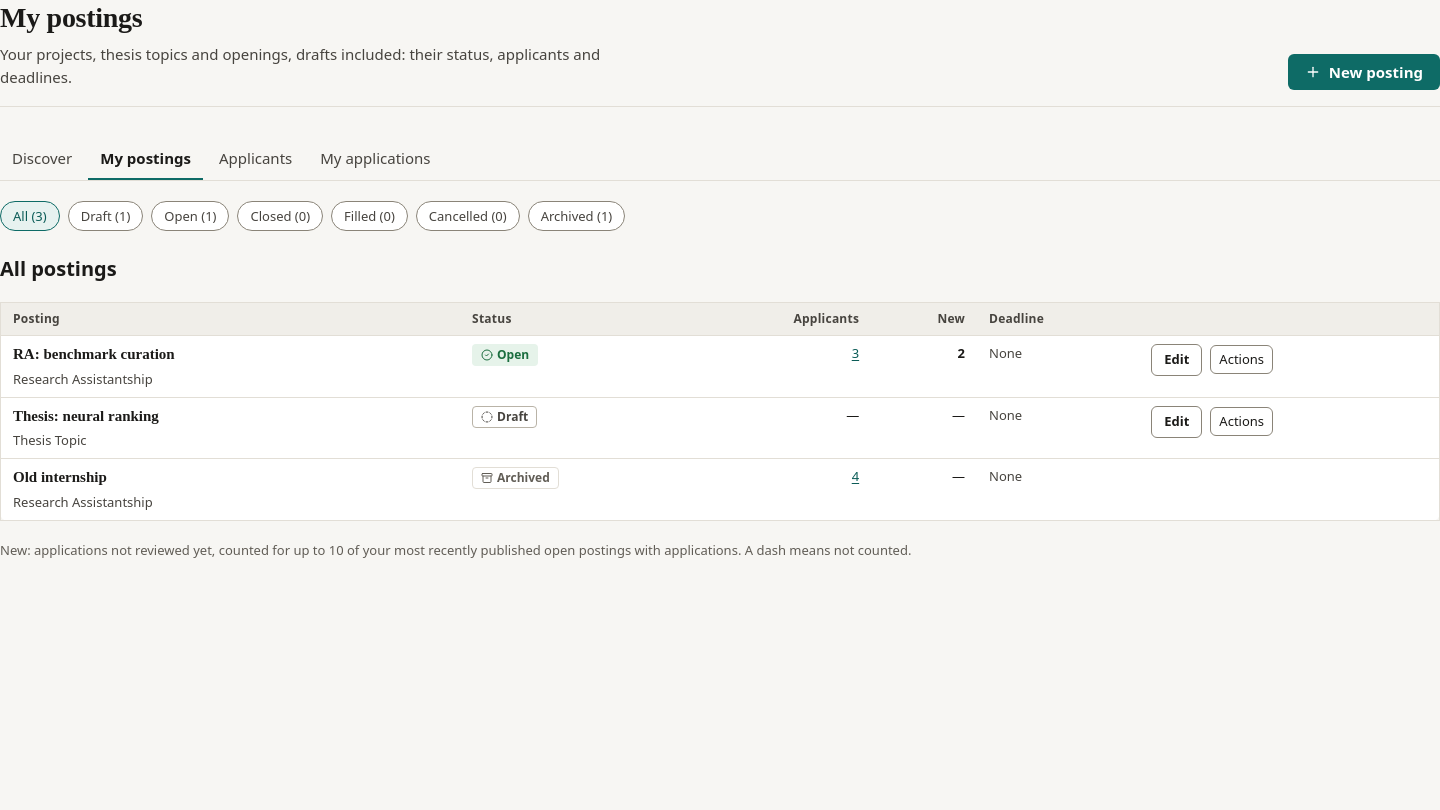
Test: My postings › asks before Cancel posting: Cancel sends nothing, Confirm sends one request
Click the button with aria-label "Actions for RA: benchmark curation" at (1242, 360), box [1210,345,1273,374]
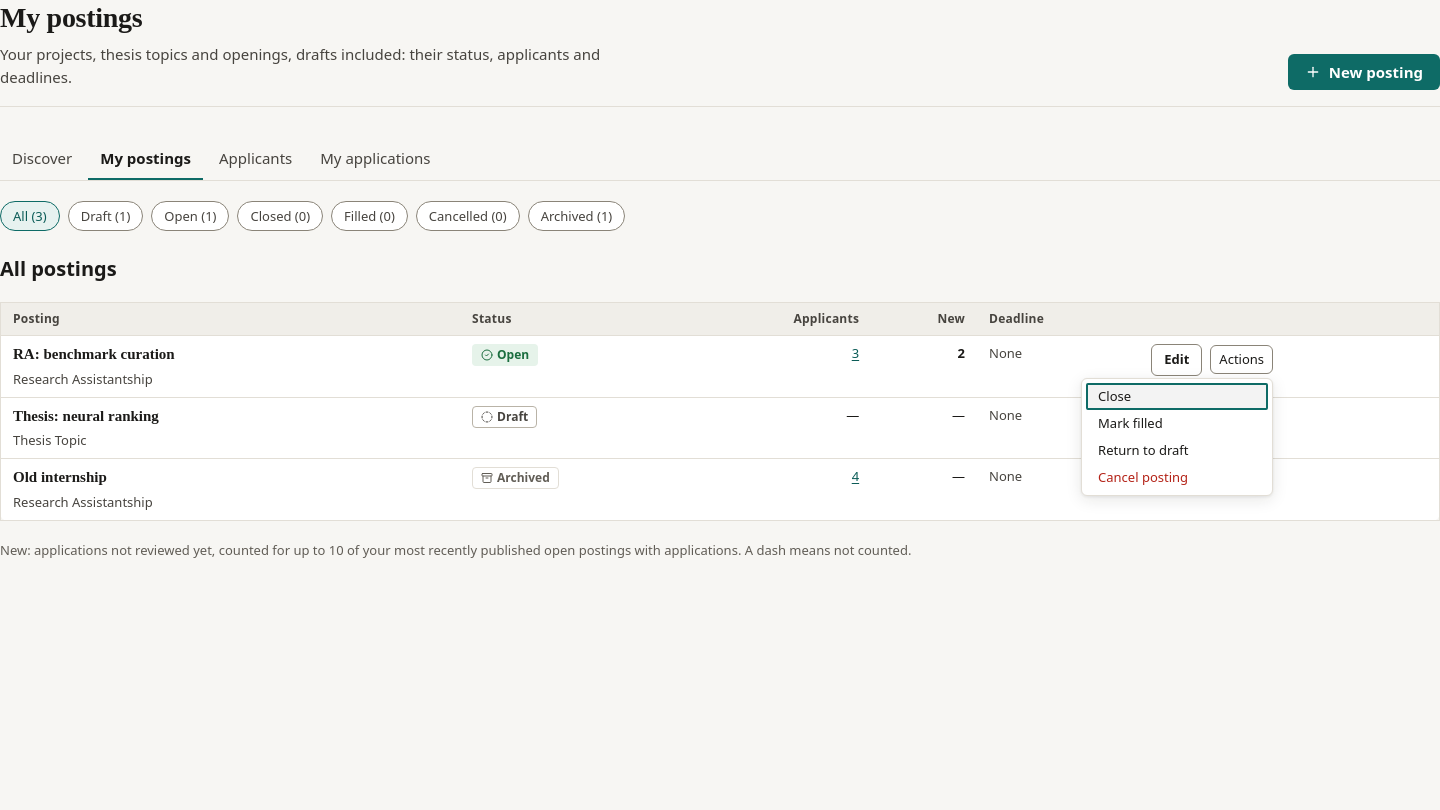
Click the menu item "Cancel posting" at (1177, 477), box [1086,464,1268,490]
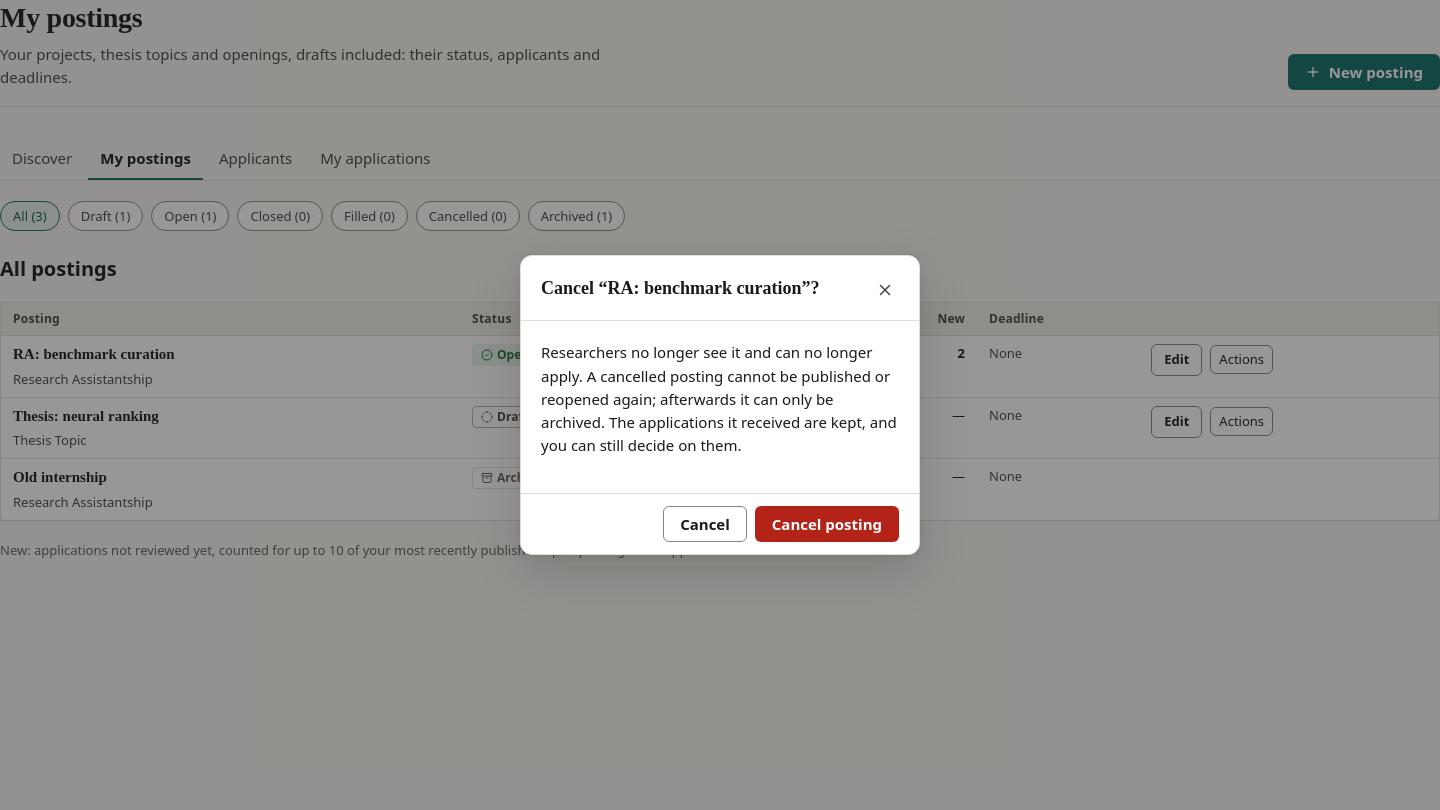
Expected: the dialog "Cancel “RA: benchmark curation”?" shows "cannot be published or reopened again", [541,366,890,432]
Expected: the dialog "Cancel “RA: benchmark curation”?" shows "The applications it received are kept", [541,412,897,455]
Click the button "Cancel" at (705, 524), box [663,506,747,542]
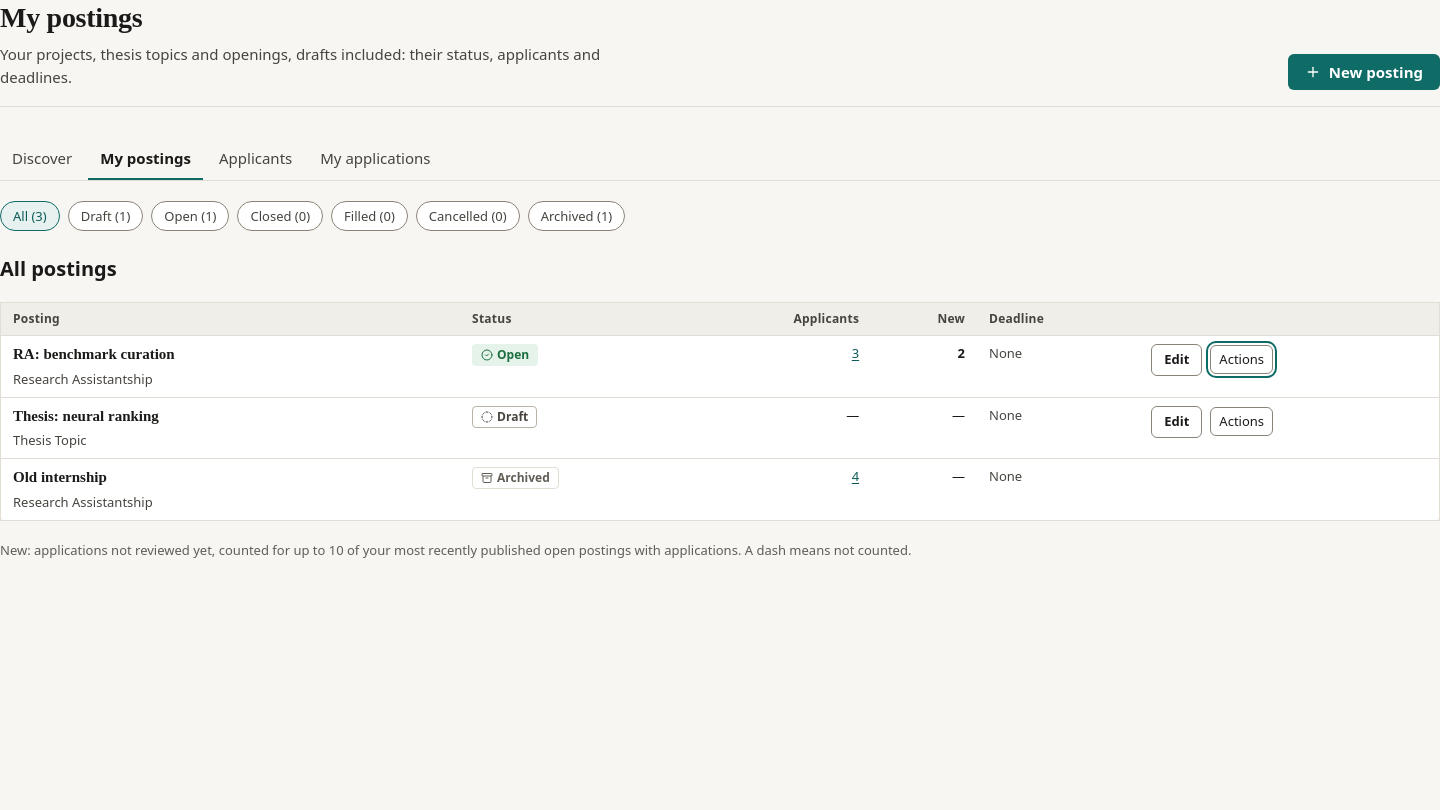
Expected: the row "RA: benchmark curation" shows "Open", [497,346,529,363]
Click the button with aria-label "Actions for RA: benchmark curation" at (1242, 360), box [1210,345,1273,374]
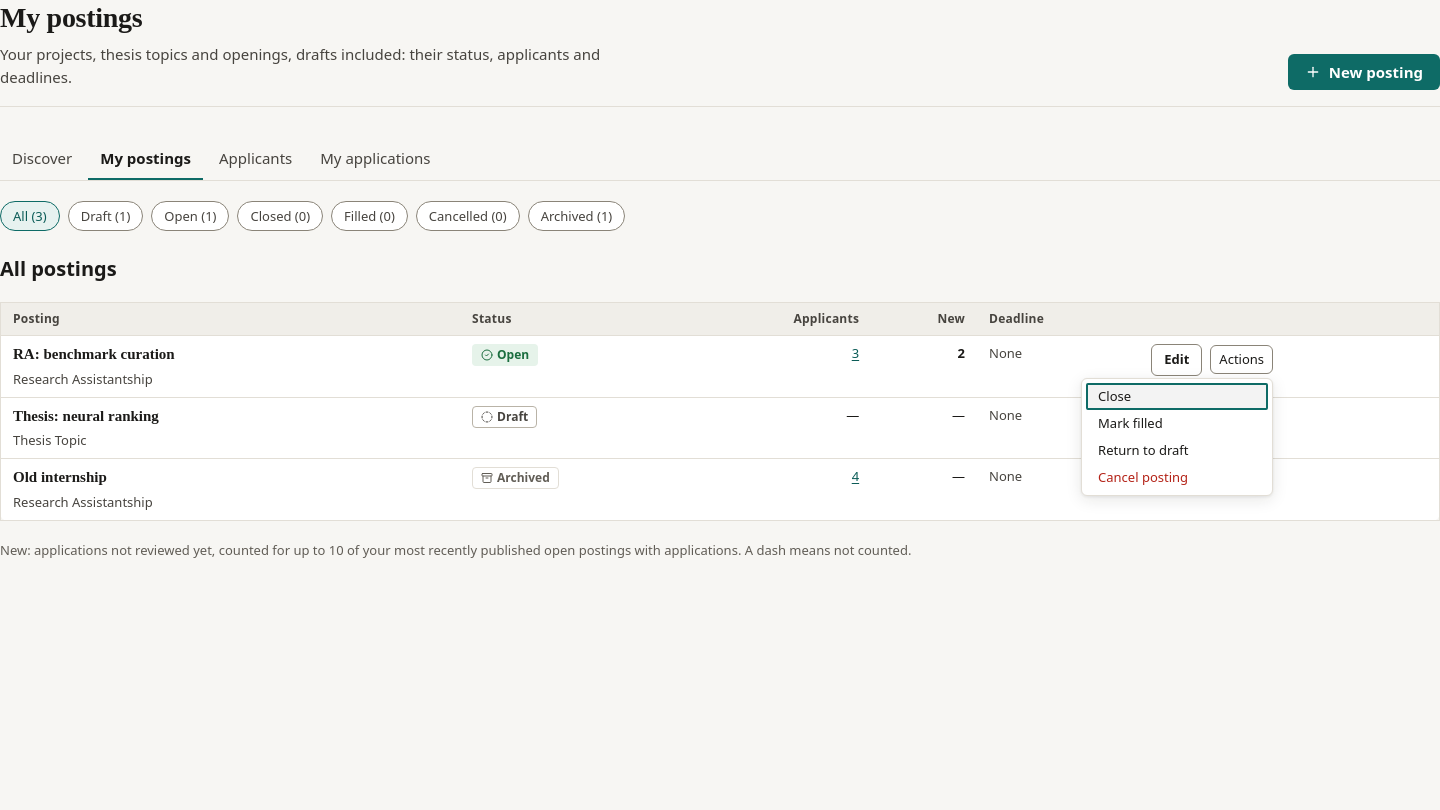
Click the menu item "Cancel posting" at (1177, 477), box [1086,464,1268,490]
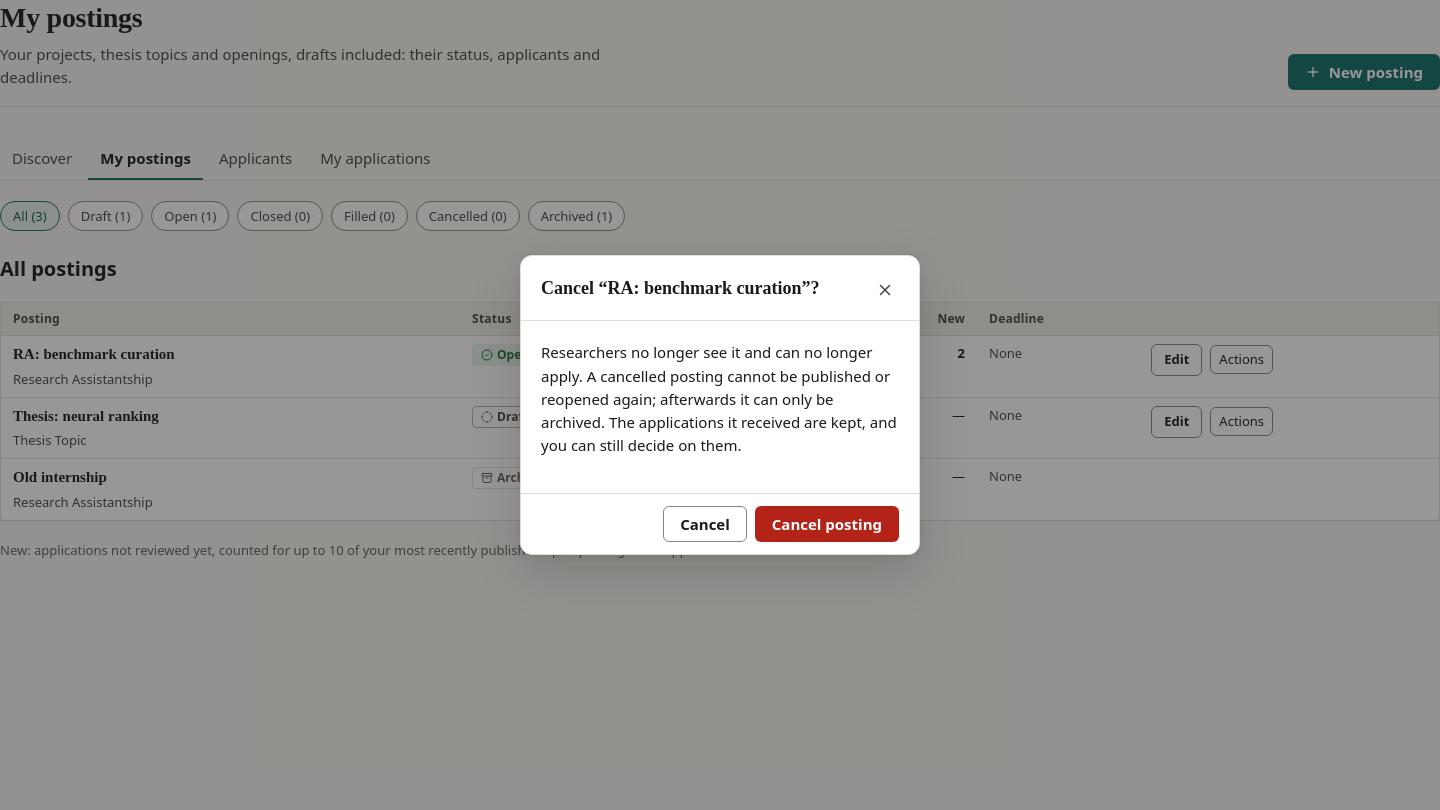
Click the button "Cancel posting" at (827, 524), box [755,506,899,542]
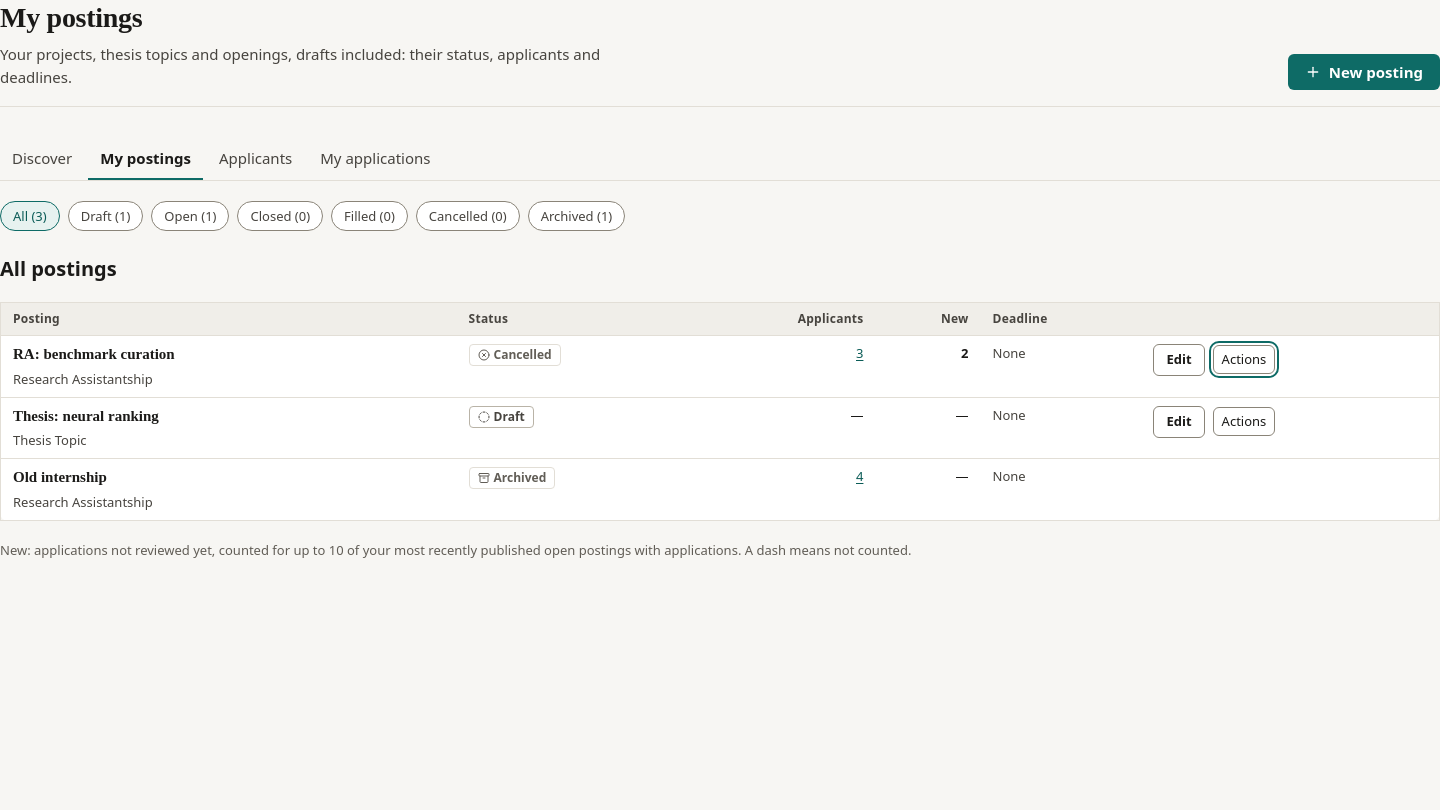
Expected: the dialog is gone
Expected: the row "RA: benchmark curation" shows "Cancelled", [494,346,552,363]
